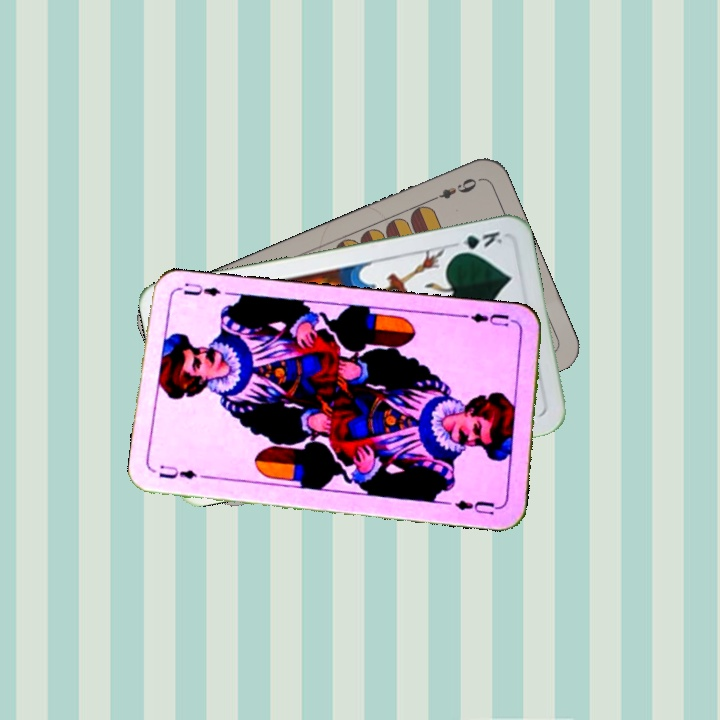E9: (426, 174, 482, 205)
EU: (466, 309, 518, 329), (155, 462, 200, 482)
GK: (449, 227, 505, 257)
